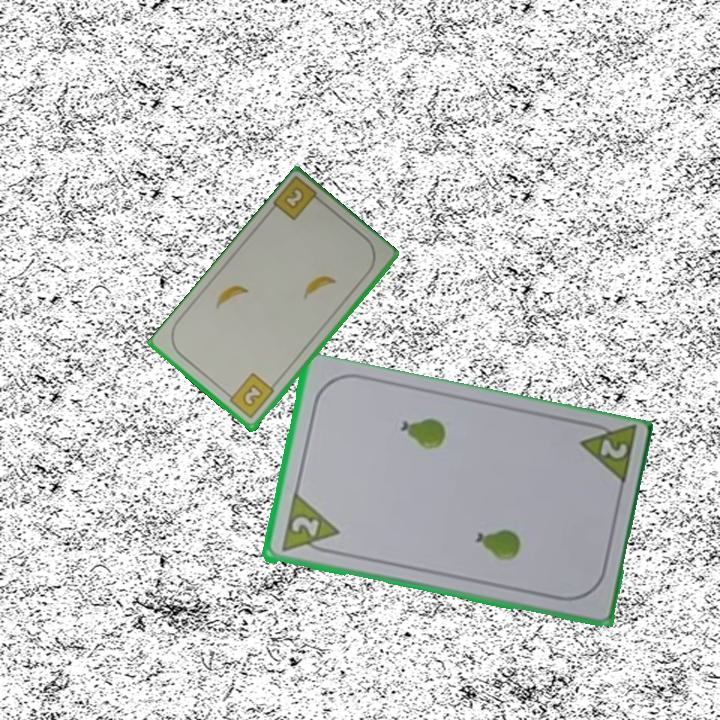2b: (222, 370, 277, 422), (269, 175, 327, 224)
2p: (574, 417, 639, 491), (277, 492, 341, 558)
